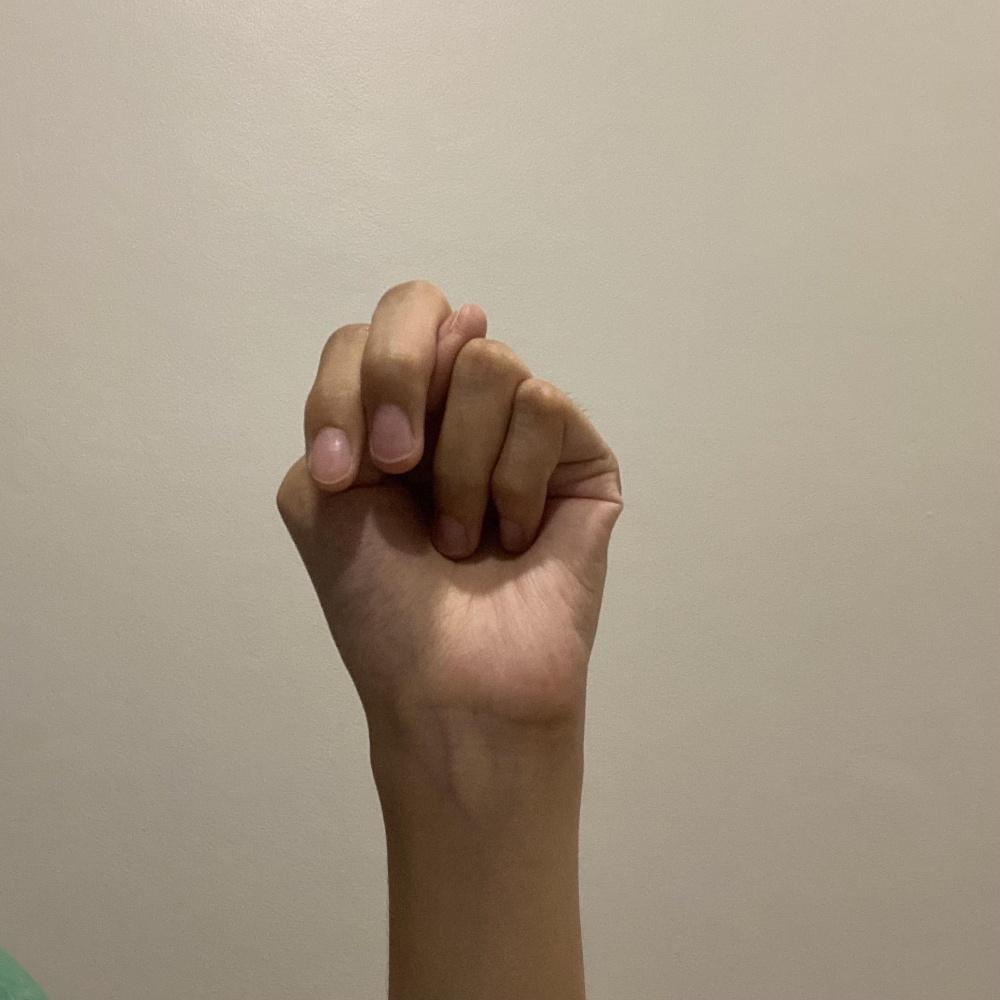n: (271, 272, 626, 739)
